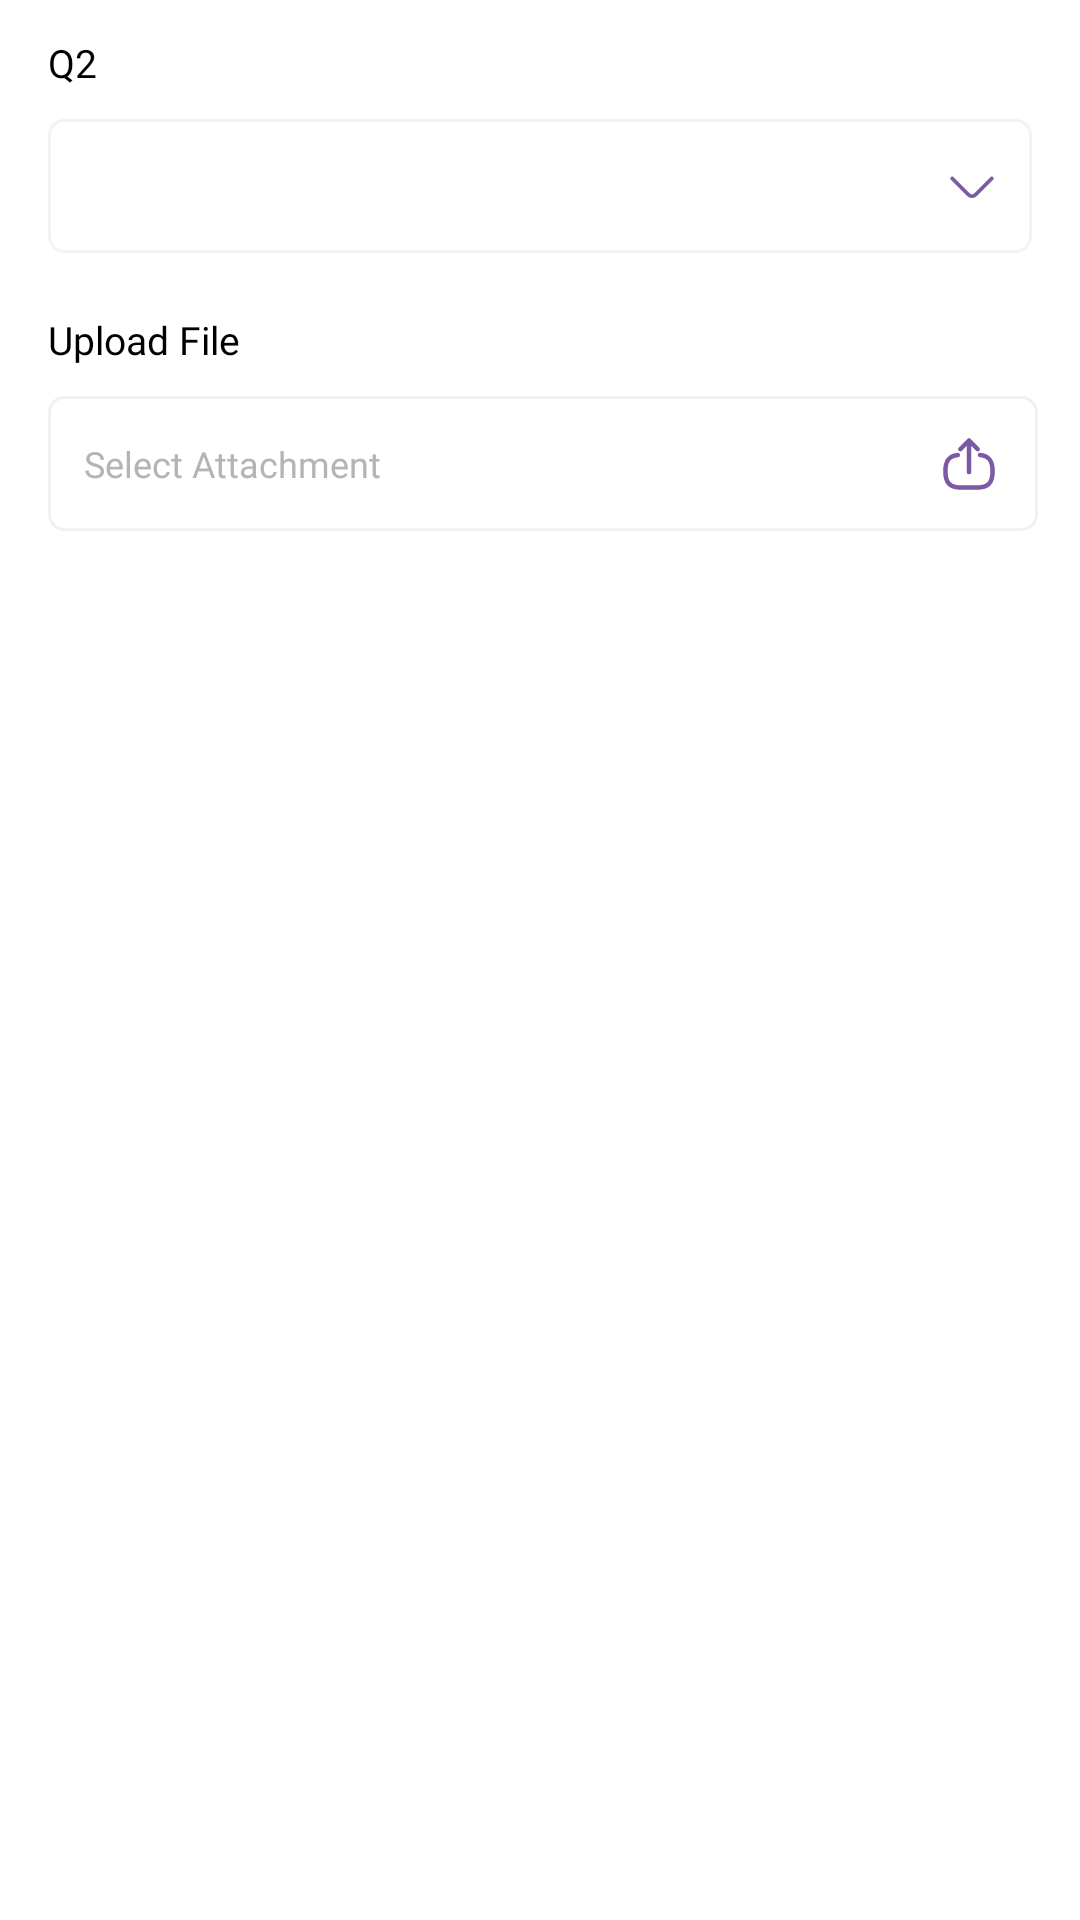

Icons on this 1080 × 1920 Android screen, each with the point to tap as [x,y]:
arrow down: [972,187]
upload: [969,464]
